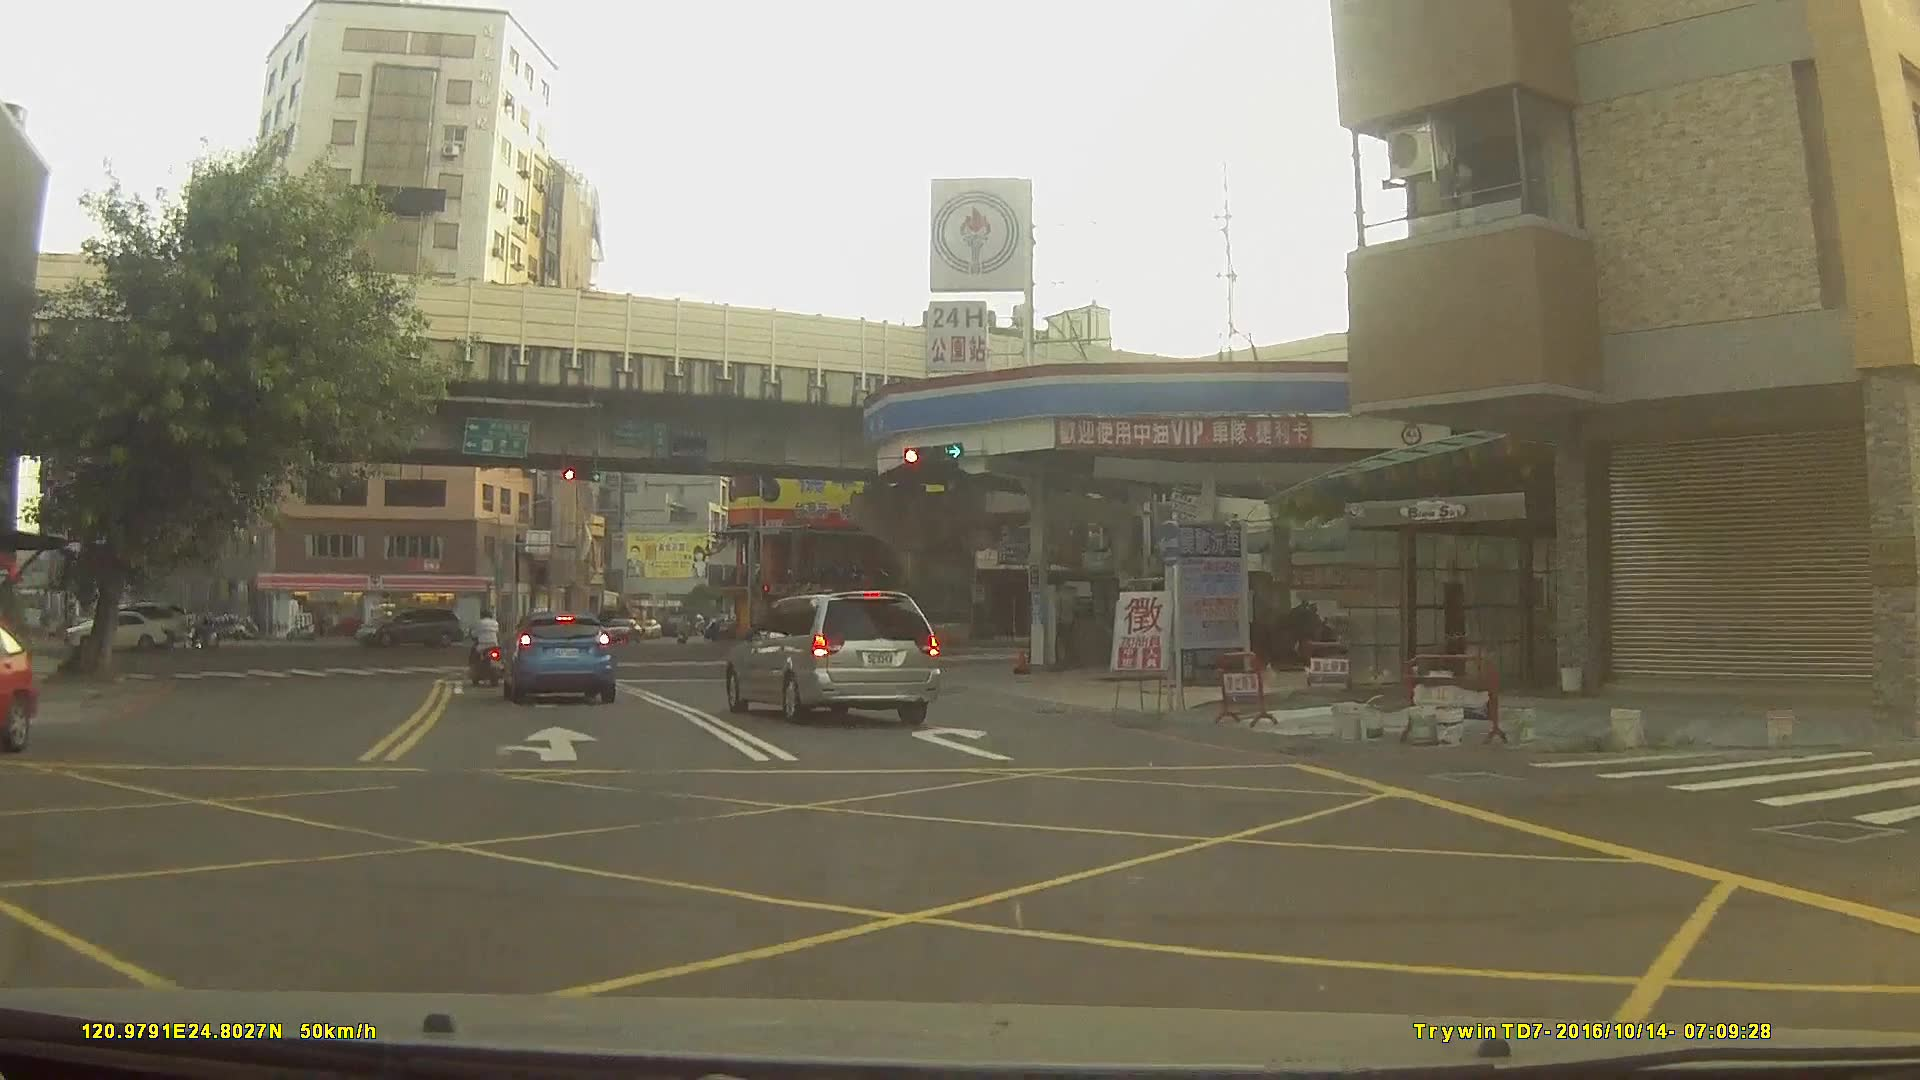rider: (466, 609, 506, 686), (187, 619, 214, 651)
vehicle: (725, 586, 941, 725), (504, 611, 618, 705), (61, 609, 167, 654), (354, 605, 462, 647), (529, 604, 609, 644)
